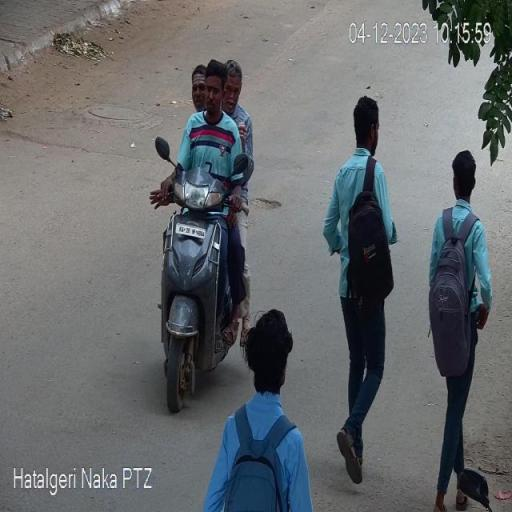tripple riding: (151, 42, 255, 210)
